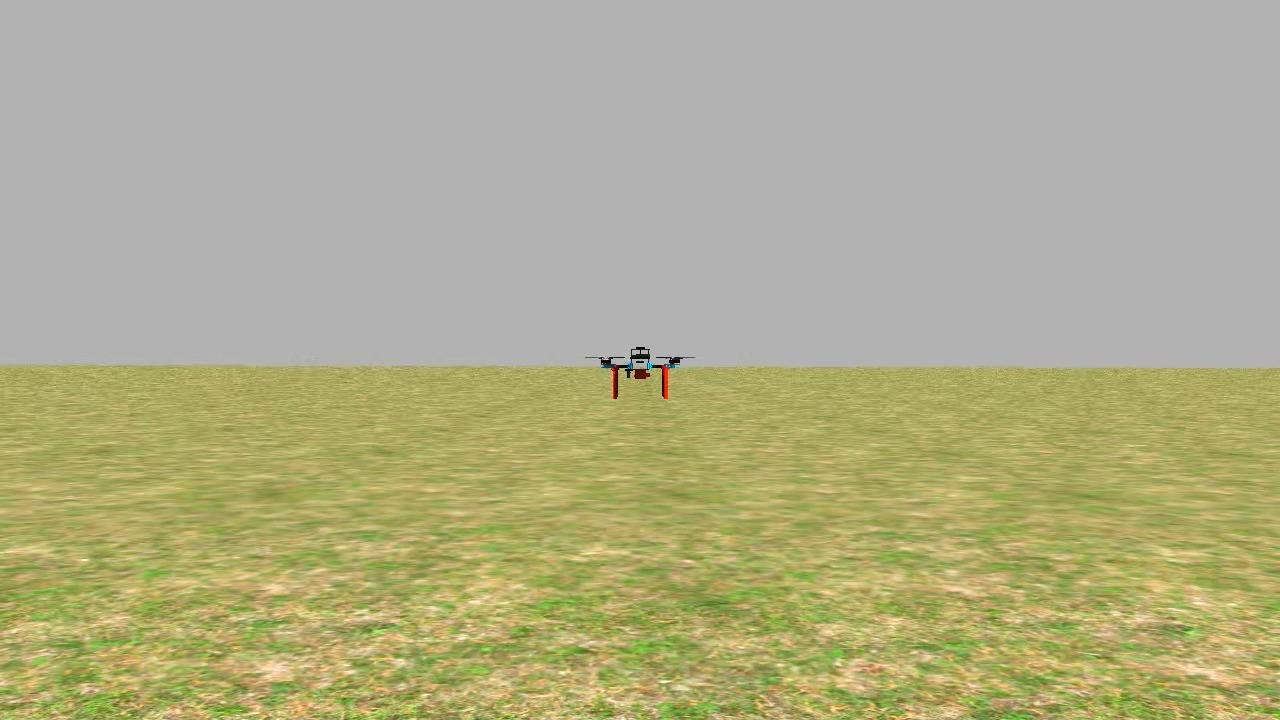UAV: (574, 328, 686, 403)
